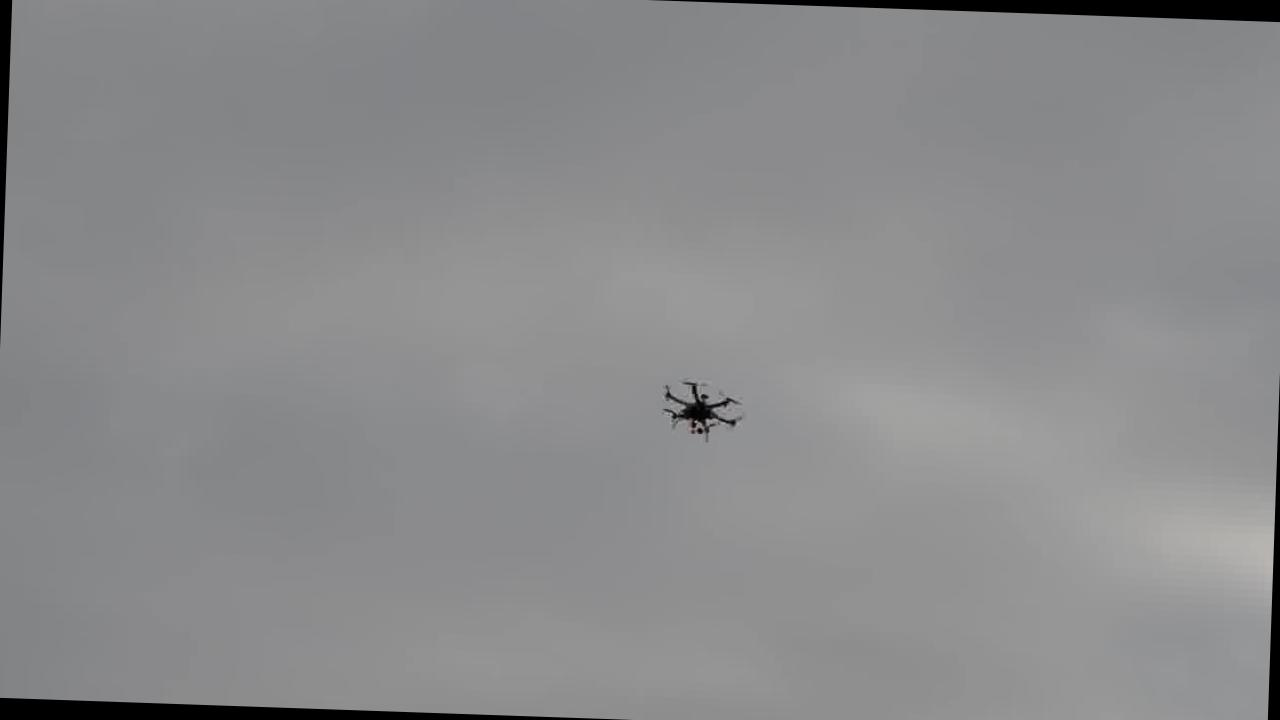drone: (658, 374, 742, 440)
